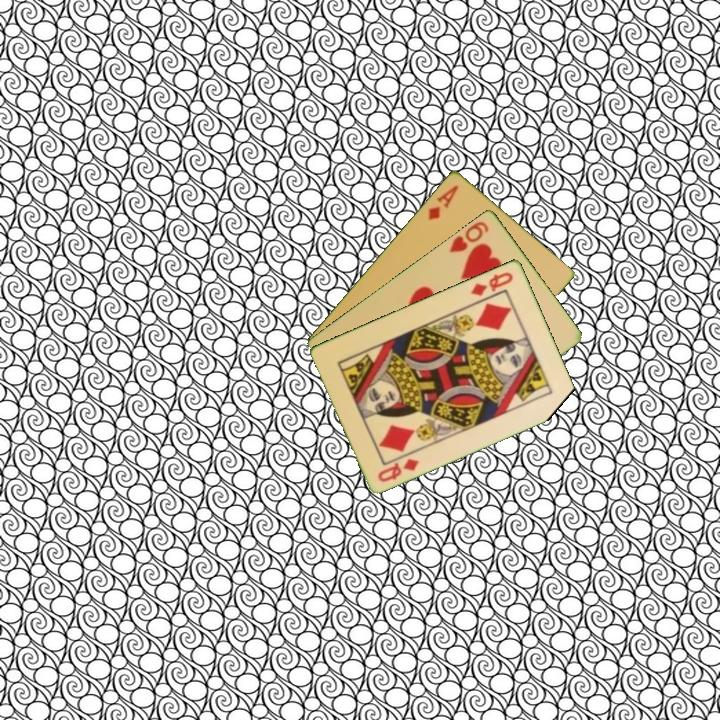6h: (446, 217, 492, 255)
Ad: (424, 181, 461, 223)
Qd: (467, 268, 516, 299), (374, 454, 422, 484)
